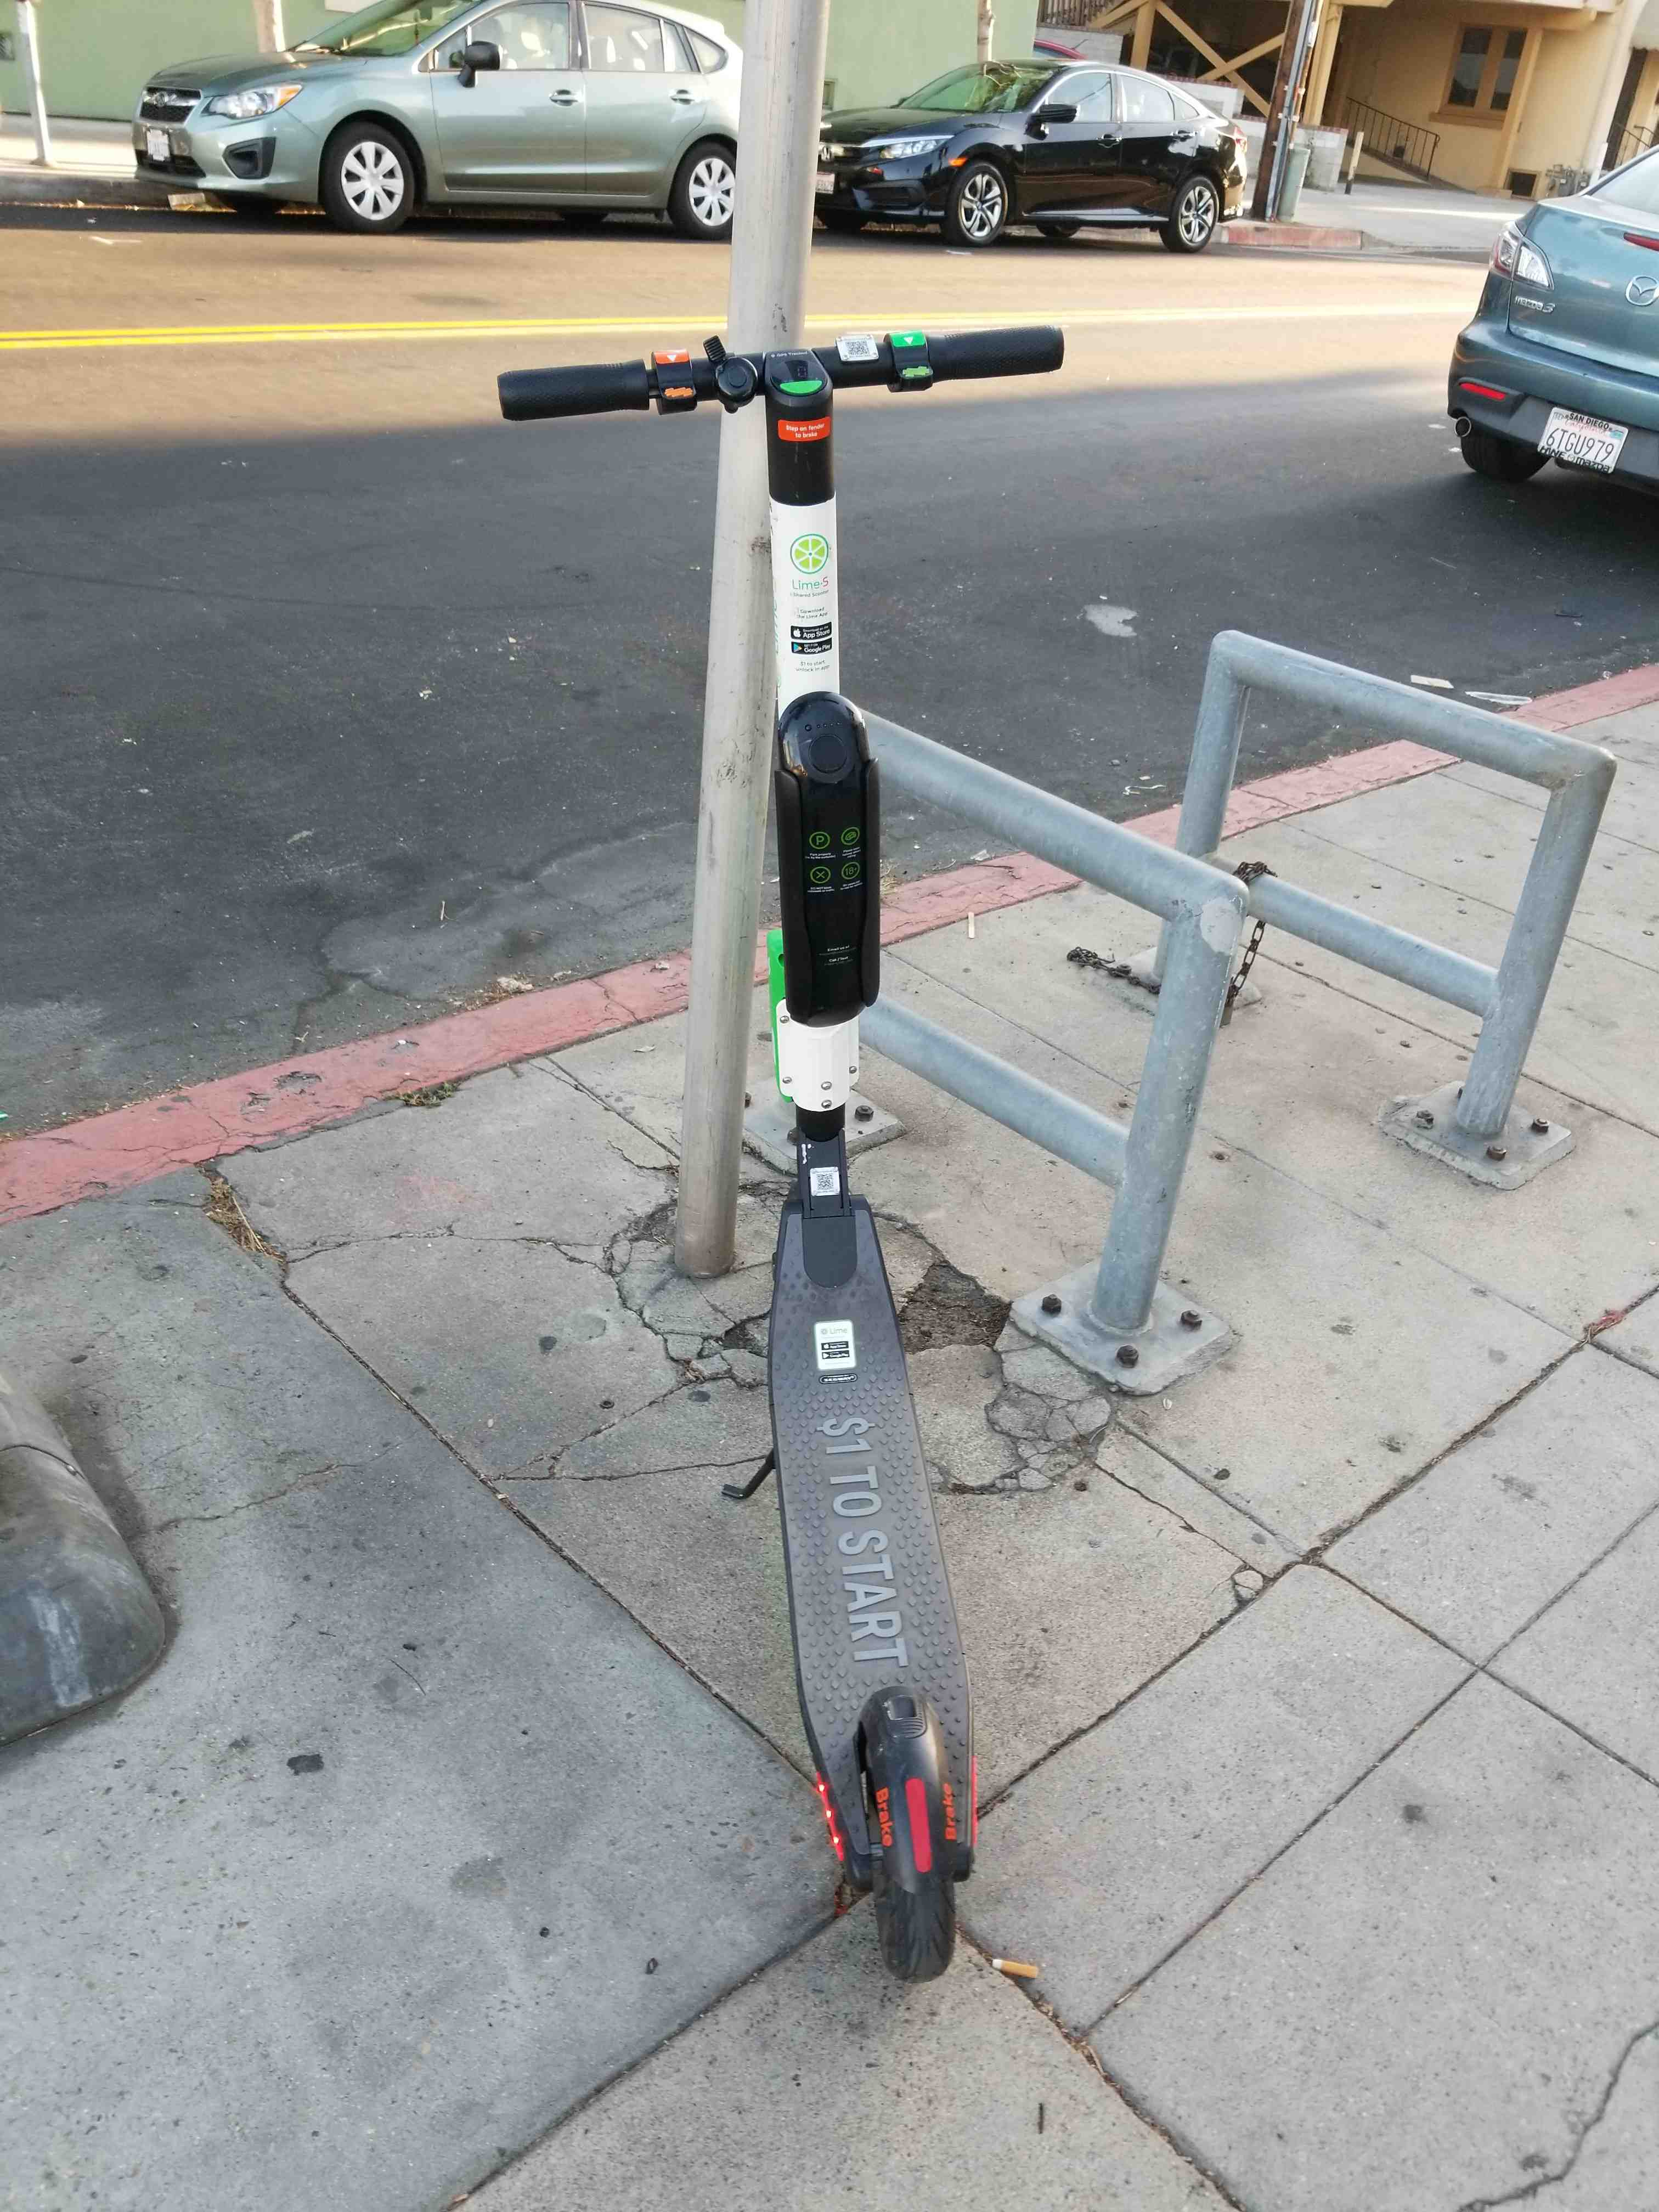scooter: (495, 301, 1155, 1998)
